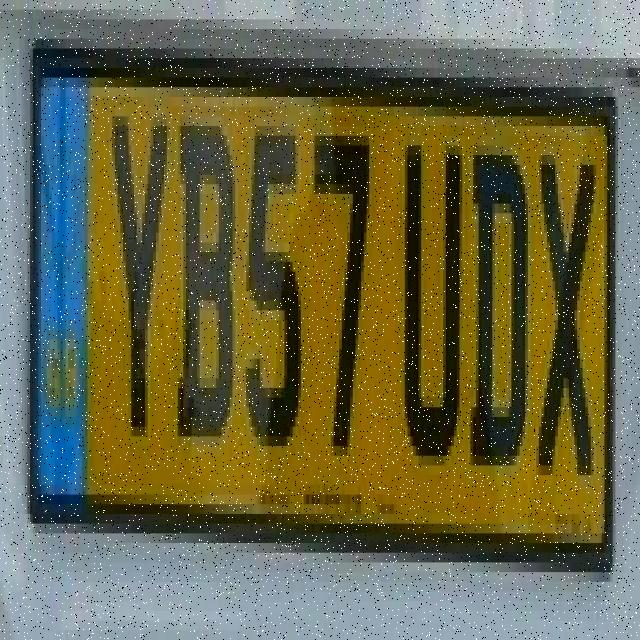licenseplate: (23, 24, 629, 582)
